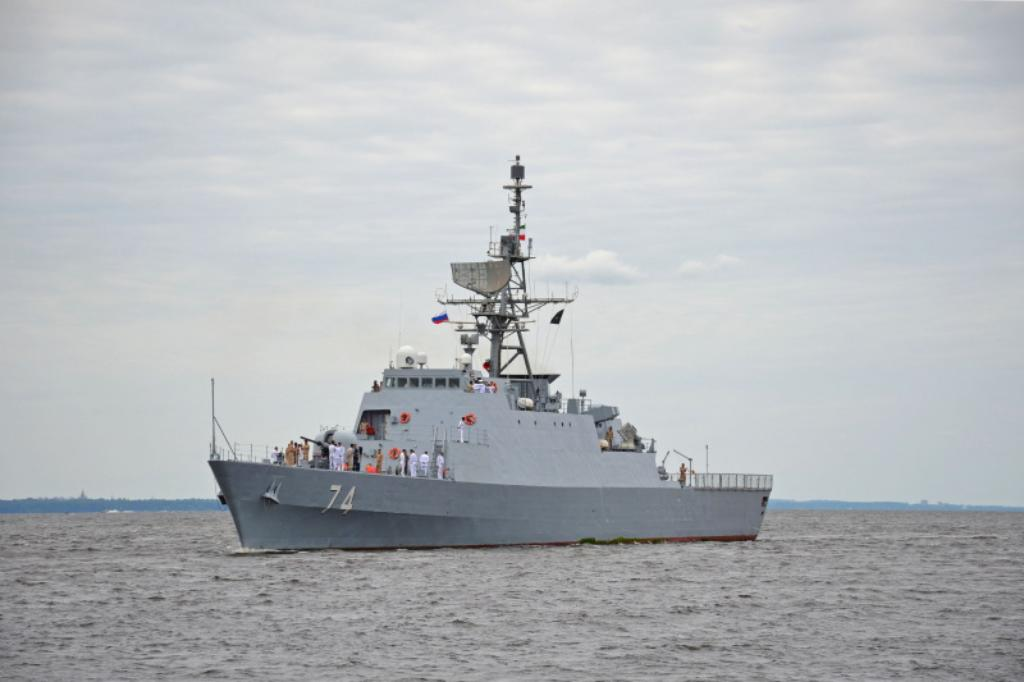Warship: (205, 140, 773, 554)
